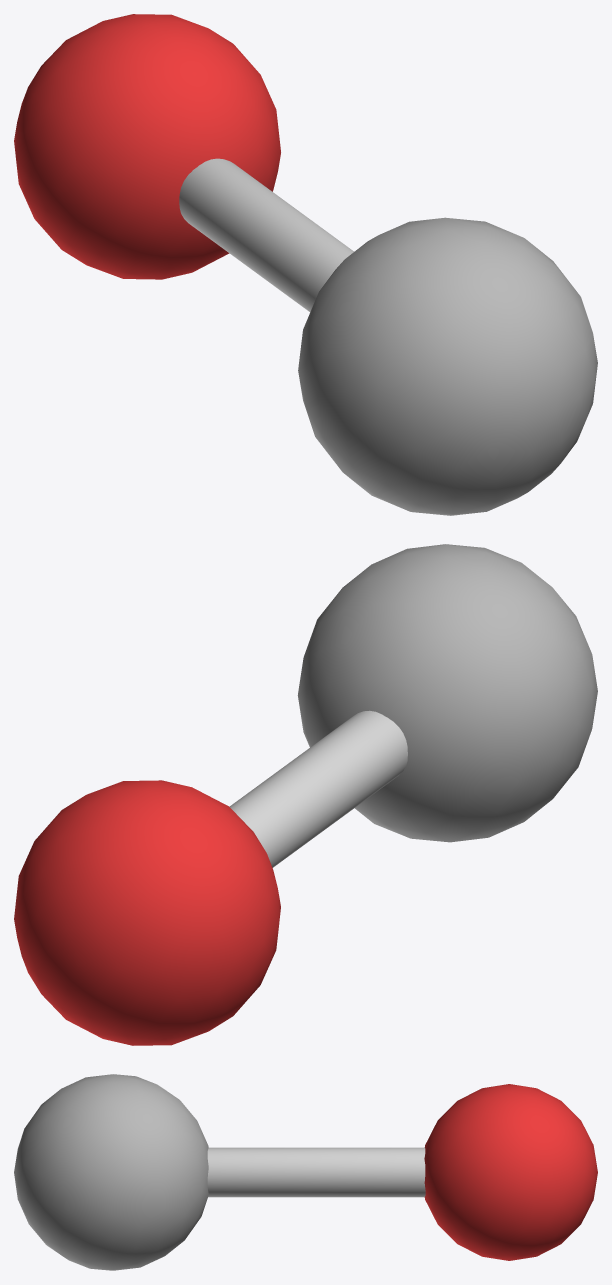
The picture shows the model from 3 angles, top to bottom: view 1: azimuth 30°, elevation 25°; view 2: azimuth 150°, elevation 25°; view 3: azimuth 270°, elevation 25°; orthographic projection. The views are drawn at different scales.
Parts seen in each view (by area): view 1: Atom_3_C, Atom_0_O, Bond; view 2: Atom_3_C, Atom_0_O, Bond; view 3: Atom_3_C, Atom_0_O, Bond.
Part boxes in pixels (left/top/right/bottom): Atom_3_C: left=298, top=217, right=597, bottom=515; Atom_0_O: left=14, top=14, right=280, bottom=279; Bond: left=179, top=158, right=353, bottom=311; Atom_3_C: left=297, top=544, right=597, bottom=842; Atom_0_O: left=14, top=780, right=280, bottom=1045; Bond: left=229, top=710, right=407, bottom=867; Atom_3_C: left=14, top=1074, right=208, bottom=1270; Atom_0_O: left=424, top=1084, right=597, bottom=1260; Bond: left=207, top=1147, right=425, bottom=1197.
Size of the model in its own units: 0.68 by 0.68 by 2.
